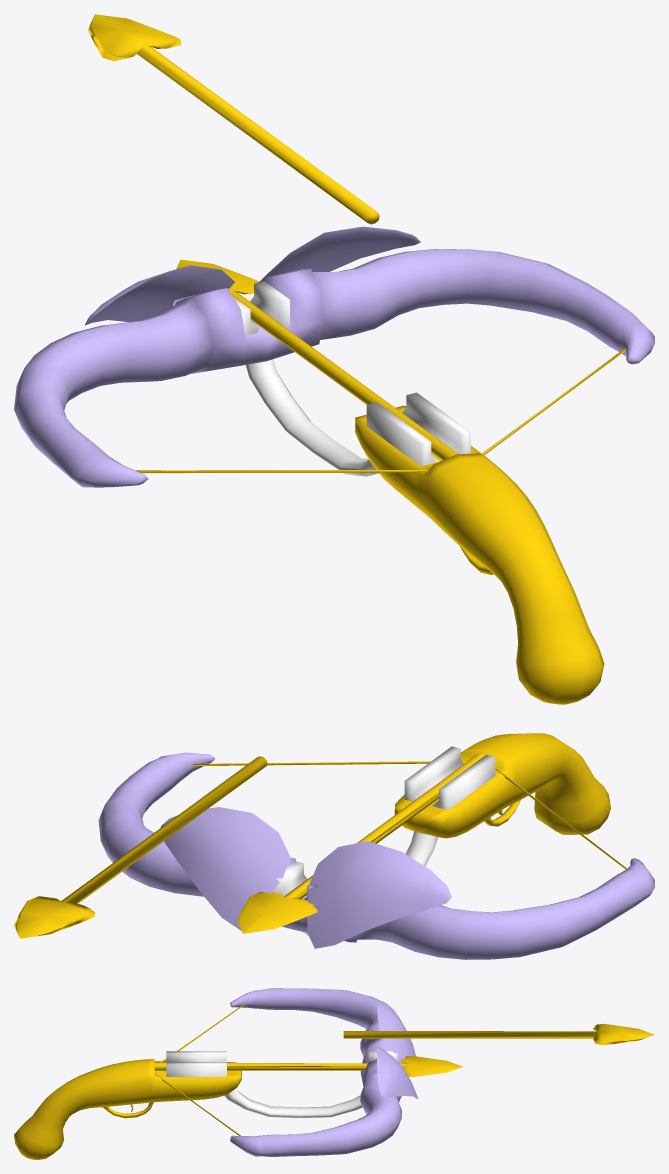
The model's file is Cletus_Bow.glb.
3 renders of one model, top to bottom at view 1: azimuth 30°, elevation 25°; view 2: azimuth 150°, elevation 25°; view 3: azimuth 270°, elevation 25°, orthographic. The views are drawn at different scales.
Visible parts, largest first — view 1: crossbow, Bolt.001; view 2: crossbow, Bolt.001; view 3: crossbow, Bolt.001.
Boxes of the visible parts, x1,y1,x2,y2 form: crossbow: [14, 226, 654, 704]; Bolt.001: [88, 14, 379, 224]; crossbow: [98, 733, 654, 959]; Bolt.001: [14, 756, 267, 938]; crossbow: [14, 988, 462, 1159]; Bolt.001: [343, 1023, 654, 1045].
Size of the model in its own units: 2.58 by 1.13 by 4.41.
1 material, 1 textured.
